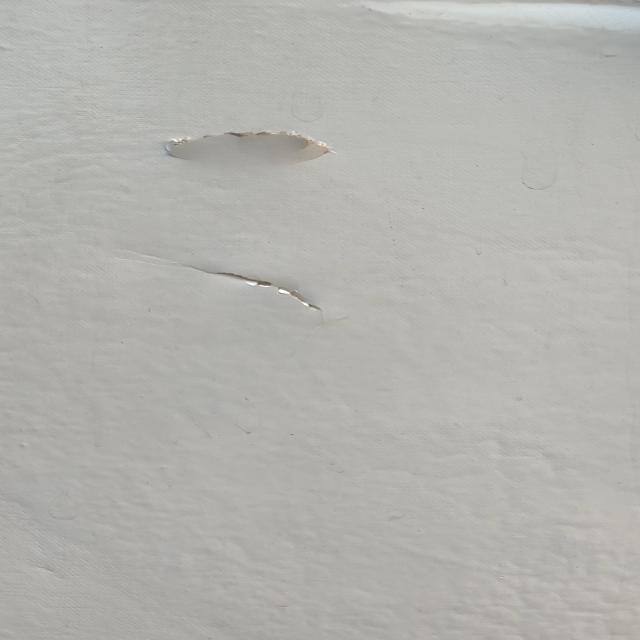Scratches: (145, 120, 335, 168), (181, 258, 323, 321)
